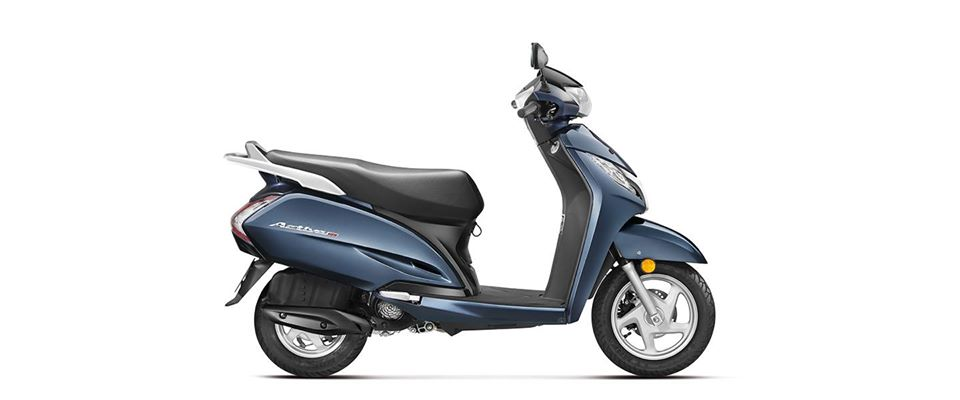moto: (217, 40, 715, 382)
